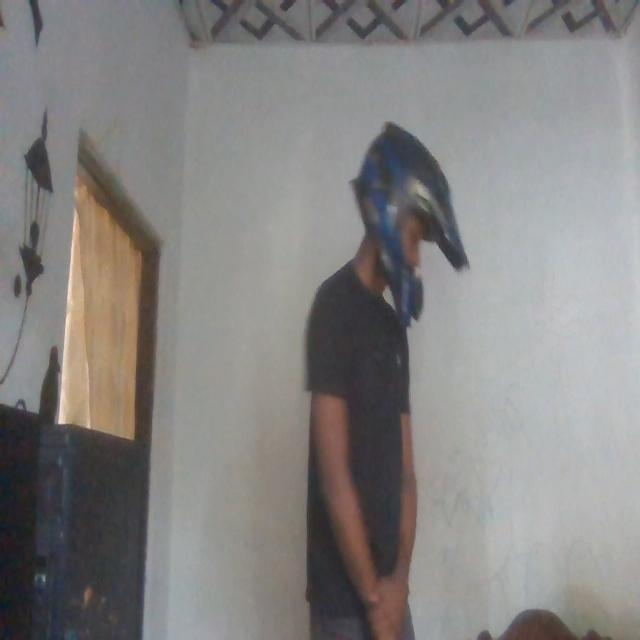Helmet_Wearer: (342, 110, 458, 337)
Person: (300, 114, 457, 640)
